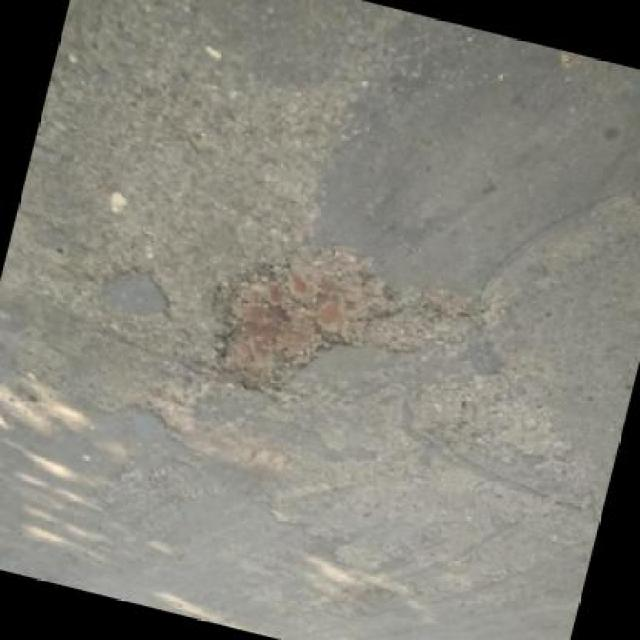pothole1: (191, 224, 404, 427)
